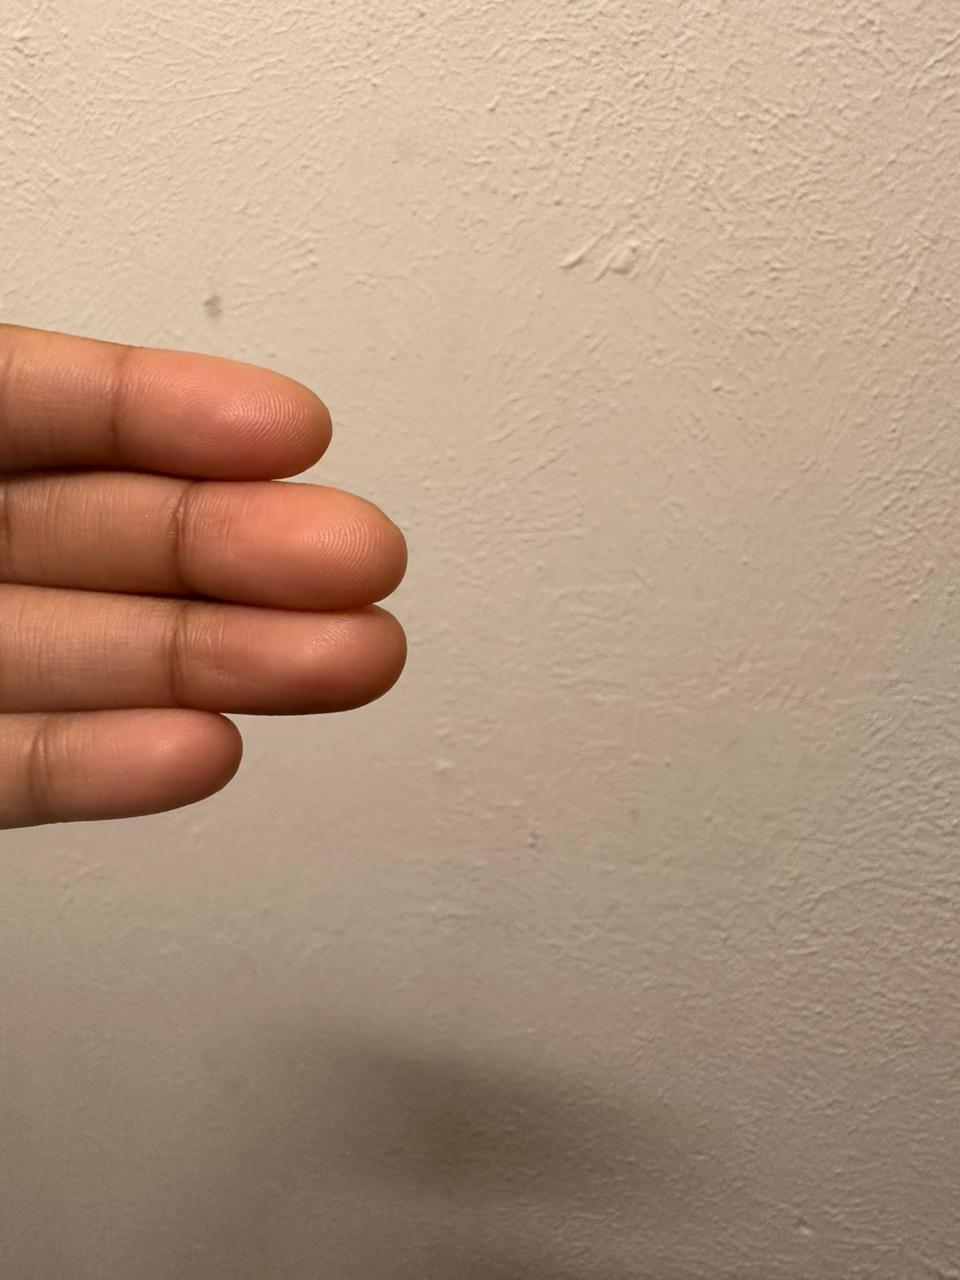finger: (100, 346, 356, 478), (177, 483, 418, 607), (175, 603, 432, 716), (27, 711, 269, 822)
